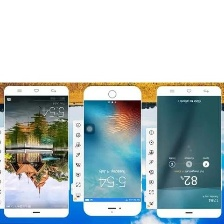phone: (0, 83, 71, 219), (153, 84, 224, 220), (81, 83, 145, 219)
